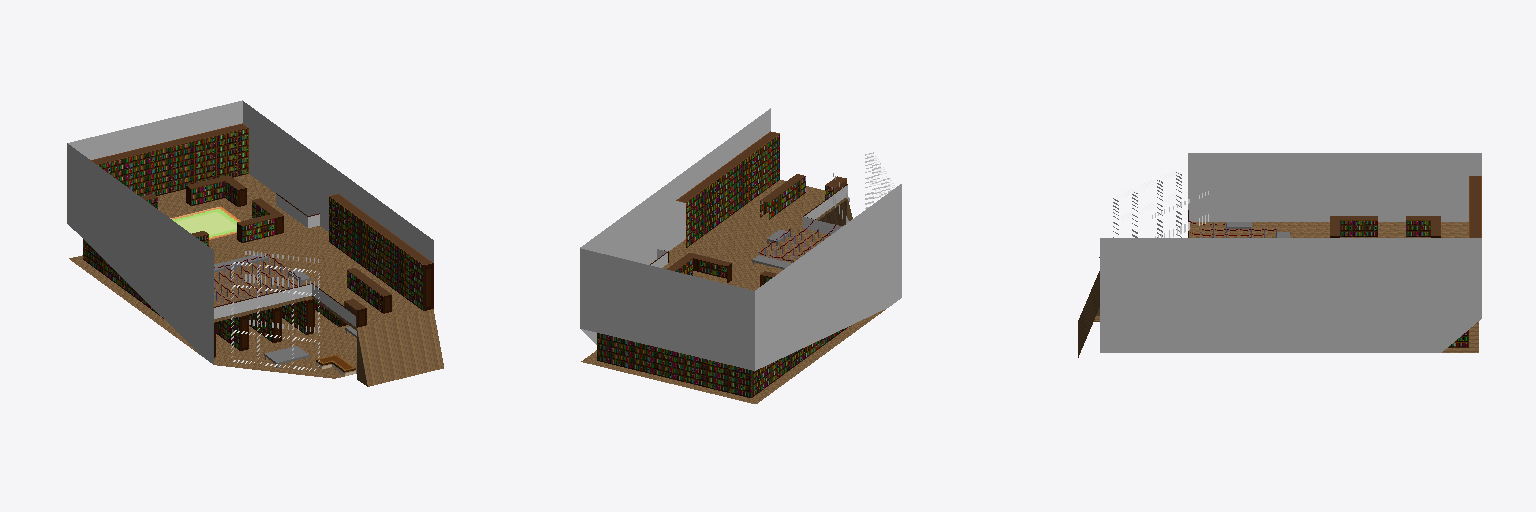
3 views of the same model, side by side, from view 1: azimuth 30°, elevation 25°; view 2: azimuth 150°, elevation 25°; view 3: azimuth 270°, elevation 25° (orthographic).
Parts seen in each view (by area): view 1: 2ndFloor_Grid.001, 2ndShelves_Grid.002, 1stFloor_Grid, 1stShelves_Plane, 2ndRailing_Grid.003, Godrays_Plane.002, 2ndLineRope_Cylinder; view 2: 2ndFloor_Grid.001, 1stFloor_Grid, 2ndShelves_Grid.002, 1stShelves_Plane, 2ndRailing_Grid.003; view 3: 2ndFloor_Grid.001, 1stFloor_Grid, 2ndShelves_Grid.002, Godrays_Plane.002.
Part boxes in pixels (x1,y1,x2,y2): 2ndFloor_Grid.001: (67,100,443,386); 2ndShelves_Grid.002: (91,123,433,327); 1stFloor_Grid: (67,212,356,378); 1stShelves_Plane: (83,239,347,357); 2ndRailing_Grid.003: (214,193,356,326); Godrays_Plane.002: (231,251,319,370); 2ndLineRope_Cylinder: (214,253,300,304); 2ndFloor_Grid.001: (580,108,901,359); 1stFloor_Grid: (580,252,901,403); 2ndShelves_Grid.002: (667,131,846,286); 1stShelves_Plane: (597,326,849,397); 2ndRailing_Grid.003: (650,184,847,267); 2ndFloor_Grid.001: (1078,153,1481,357); 1stFloor_Grid: (1094,307,1481,352); 2ndShelves_Grid.002: (1330,176,1481,237); Godrays_Plane.002: (1113,170,1208,237).
Bounding box in the file's own units: 16.02 × 10.53 × 31.92.
15 materials, 7 textured.